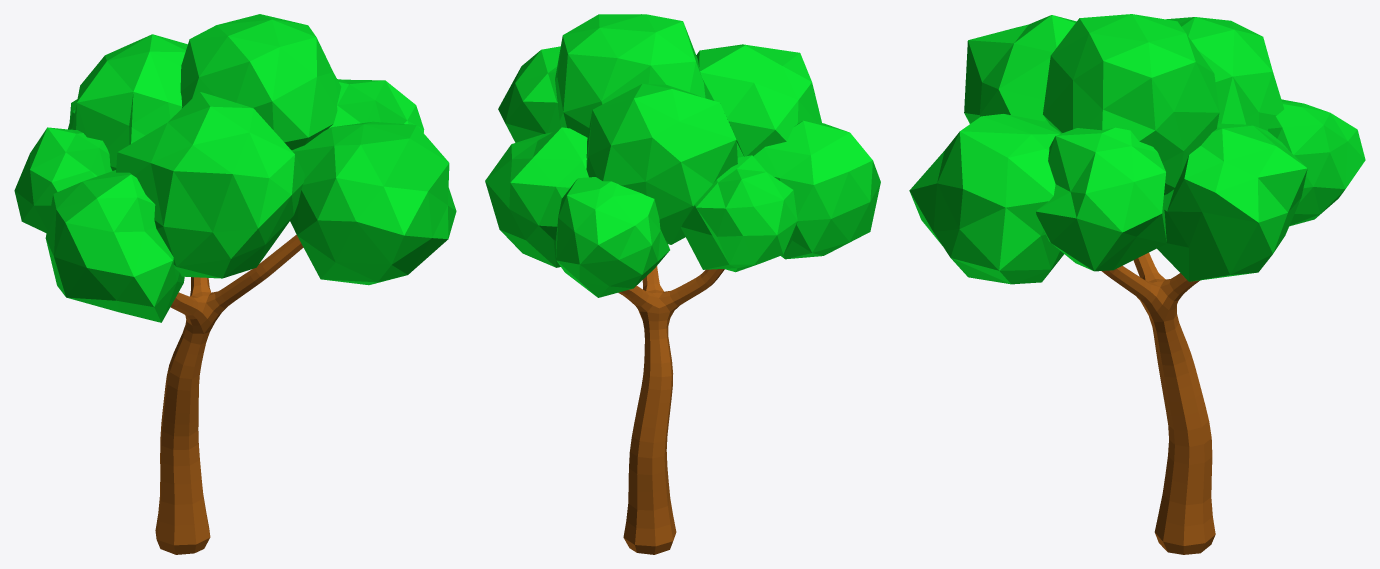
Rendered from Gametree.fbx.
3 renders of one model, left to right at view 1: azimuth 30°, elevation 25°; view 2: azimuth 150°, elevation 25°; view 3: azimuth 270°, elevation 25°, orthographic. The views are drawn at different scales.
Visible parts, largest first — view 1: Trunk.001; view 2: Trunk.001; view 3: Trunk.001.
Boxes of the visible parts, bbox=[...] form: Trunk.001: bbox=[14, 14, 456, 554]; Trunk.001: bbox=[485, 14, 880, 554]; Trunk.001: bbox=[909, 14, 1365, 554].
Bounding box in the file's own units: 1128 × 1521 × 1152.
